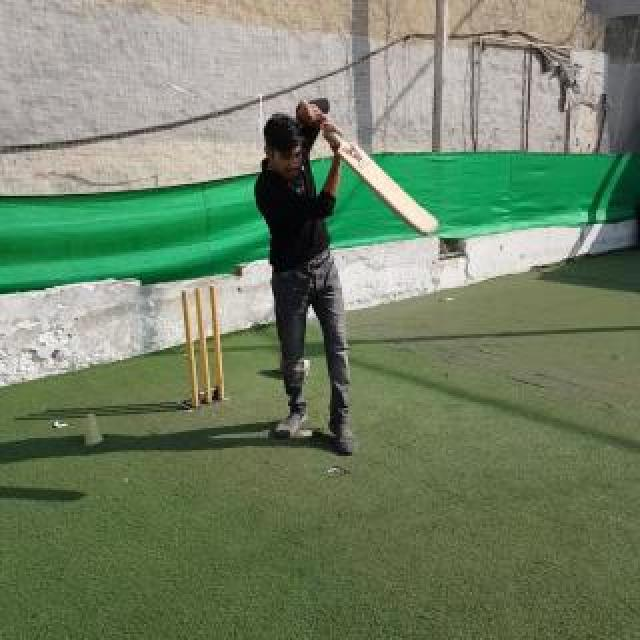bat: (300, 100, 440, 238)
